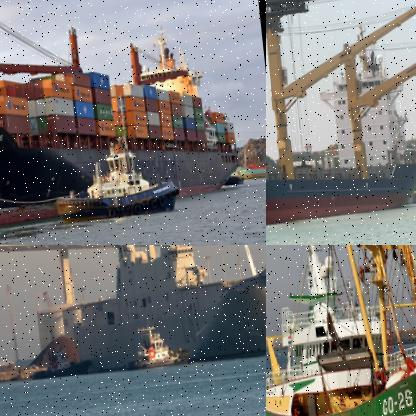Fishing Boat: (266, 245, 415, 415)
Merchant Ship: (0, 0, 244, 243), (266, 44, 415, 240)
Military Ship: (60, 245, 265, 375)
Tugboat: (51, 136, 181, 221), (24, 320, 93, 378), (122, 322, 192, 370)
